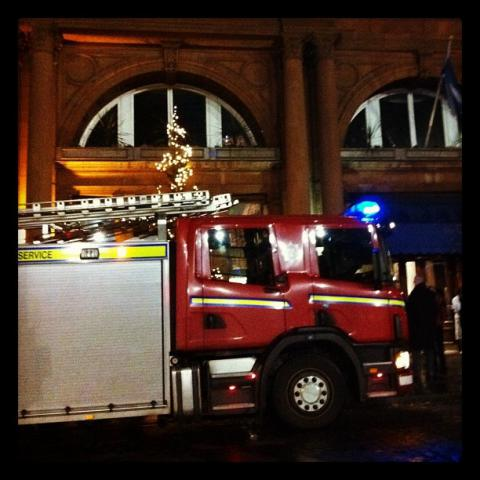truck: (0, 190, 415, 441)
